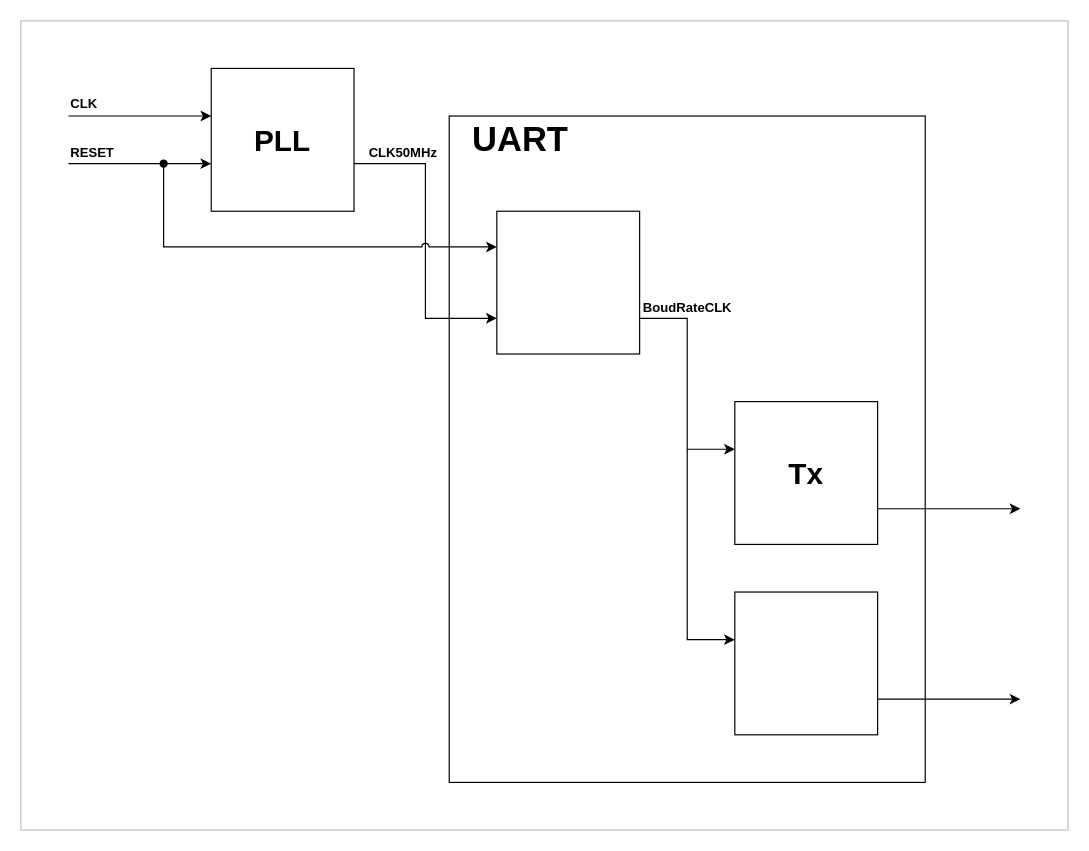
Some shapes in this 1089 by 851 pixel diagram are drawn without their labels. The shapes that lost their labels are listed below. From the top down, each one's centre as x and y in pixels, then its label:
At point 568,282: "Boudrate".
At point 806,663: "Rx".
